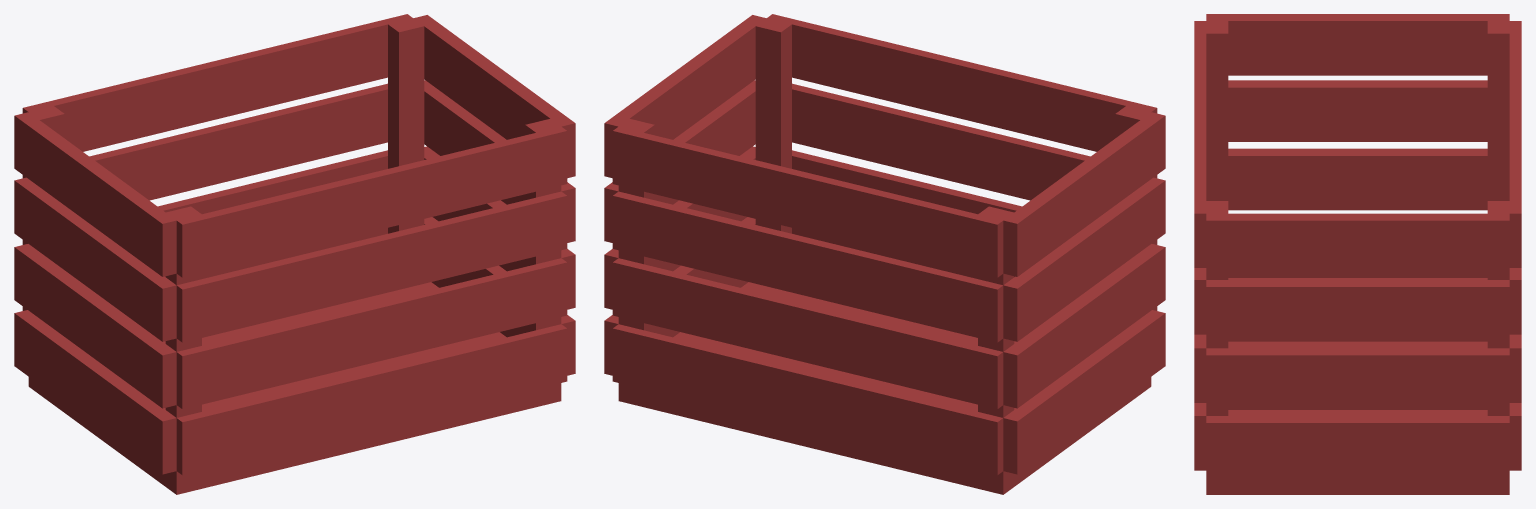
Rendered from CrateC_1.fbx.
The picture shows the model from 3 angles, left to right: view 1: azimuth 30°, elevation 25°; view 2: azimuth 150°, elevation 25°; view 3: azimuth 270°, elevation 25°; orthographic projection. The views are drawn at different scales.
Parts seen in each view (by area): view 1: Crate3; view 2: Crate3; view 3: Crate3.
Boxes of the visible parts, x1,y1,x2,y2 form: Crate3: (14,14,575,494); Crate3: (604,14,1165,494); Crate3: (1194,14,1521,494).
Size of the model in its own units: 371 by 236 by 249.
